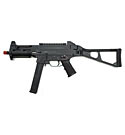rifle: (4, 32, 124, 97)
